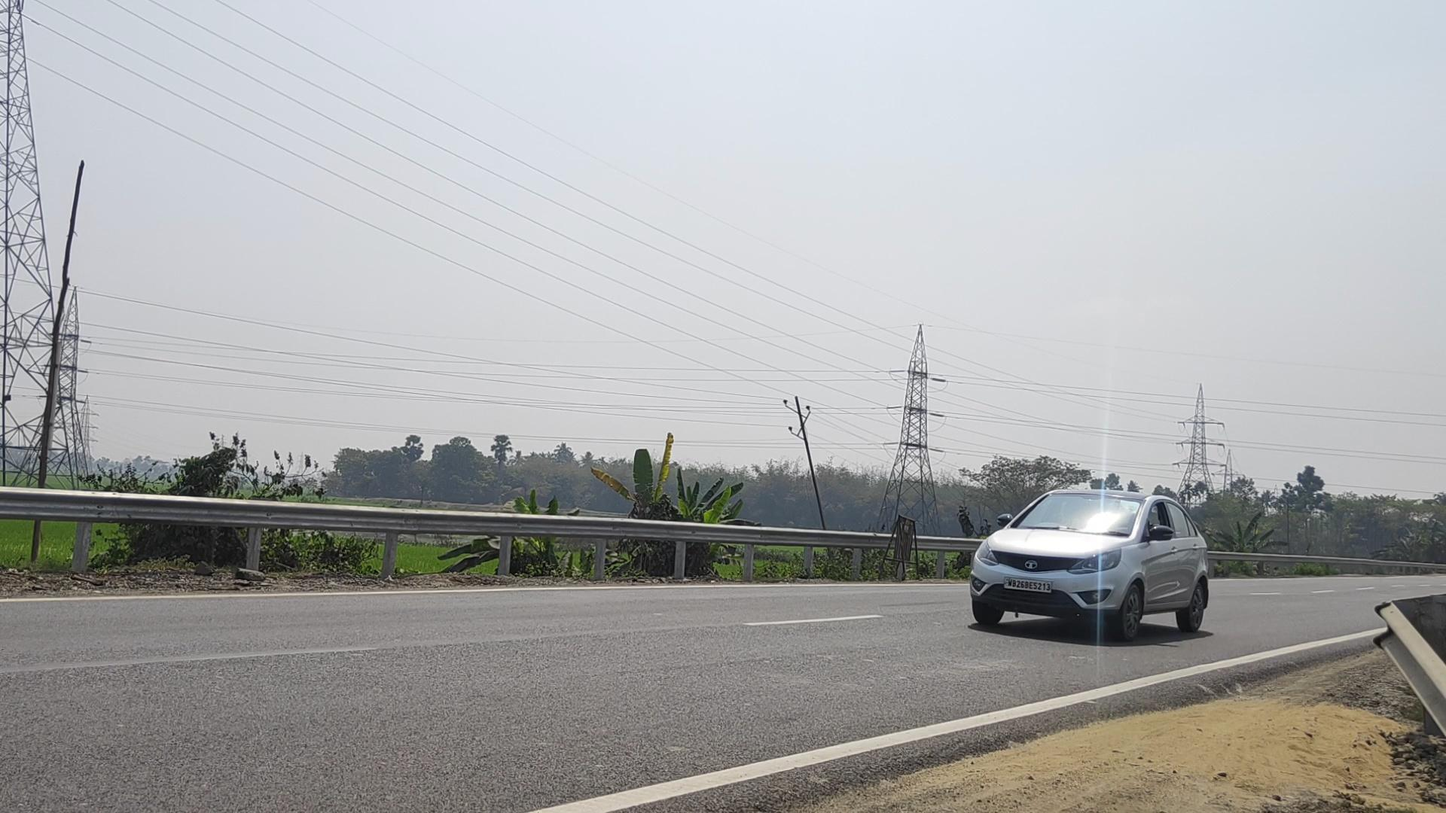car: (970, 489, 1210, 644)
